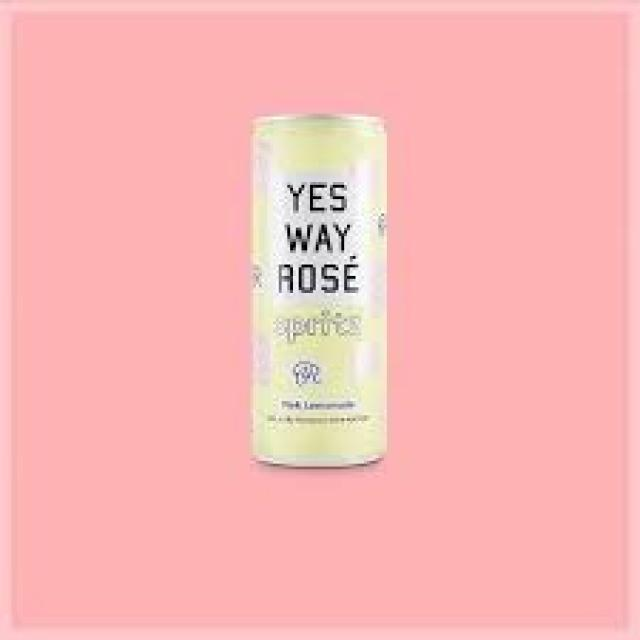Cans: (244, 102, 396, 478)
